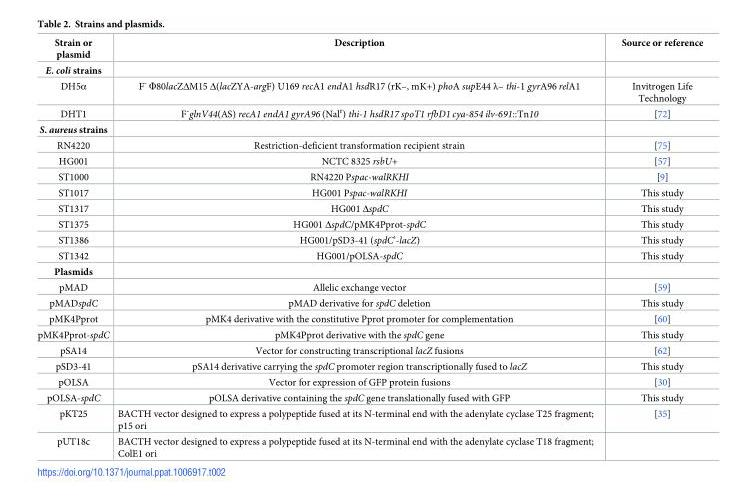table: (36, 37, 702, 458)
table column: (112, 37, 606, 458), (606, 37, 702, 458), (36, 37, 112, 458)
table column header: (36, 37, 702, 61)
table projected row header: (36, 61, 702, 77), (36, 121, 702, 137), (36, 264, 702, 279)
table row: (36, 77, 702, 104), (36, 406, 702, 433), (36, 433, 702, 458), (36, 37, 702, 61), (36, 104, 702, 121), (36, 247, 702, 264), (36, 294, 702, 311), (36, 325, 702, 342), (36, 389, 702, 406), (36, 61, 702, 77), (36, 121, 702, 137), (36, 152, 702, 168), (36, 168, 702, 184), (36, 184, 702, 200), (36, 215, 702, 231), (36, 231, 702, 247), (36, 342, 702, 358), (36, 358, 702, 374), (36, 137, 702, 152), (36, 200, 702, 215), (36, 264, 702, 279), (36, 279, 702, 294), (36, 374, 702, 389), (36, 311, 702, 325)
